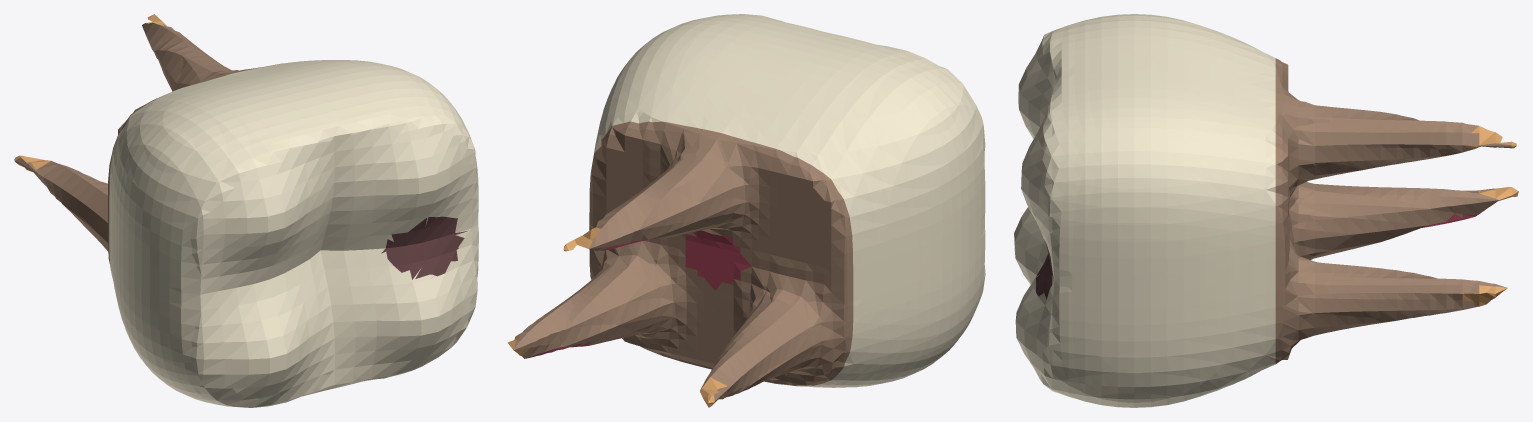
Rendered from fdi16-before.obj.
The picture shows the model from 3 angles, left to right: view 1: azimuth 30°, elevation 25°; view 2: azimuth 150°, elevation 25°; view 3: azimuth 270°, elevation 25°; orthographic projection. The views are drawn at different scales.
Parts seen in each view (by area): view 1: FDI16_BEFORE_enamel, FDI16_BEFORE_cementum, FDI16_BEFORE_caries; view 2: FDI16_BEFORE_enamel, FDI16_BEFORE_cementum, FDI16_BEFORE_pulp, FDI16_BEFORE_dentin; view 3: FDI16_BEFORE_enamel, FDI16_BEFORE_cementum, FDI16_BEFORE_dentin, FDI16_BEFORE_caries.
Part boxes in pixels (left/top/right/bottom): FDI16_BEFORE_enamel: left=109, top=60, right=478, bottom=407; FDI16_BEFORE_cementum: left=16, top=22, right=282, bottom=274; FDI16_BEFORE_caries: left=381, top=216, right=467, bottom=279; FDI16_BEFORE_enamel: left=594, top=14, right=985, bottom=387; FDI16_BEFORE_cementum: left=513, top=121, right=853, bottom=402; FDI16_BEFORE_pulp: left=529, top=230, right=751, bottom=357; FDI16_BEFORE_dentin: left=507, top=227, right=727, bottom=407; FDI16_BEFORE_enamel: left=1014, top=14, right=1275, bottom=407; FDI16_BEFORE_cementum: left=1275, top=58, right=1511, bottom=363; FDI16_BEFORE_dentin: left=1462, top=126, right=1518, bottom=306; FDI16_BEFORE_caries: left=1036, top=239, right=1053, bottom=299.
Size of the model in its own units: 21.42 by 18.42 by 28.14.
